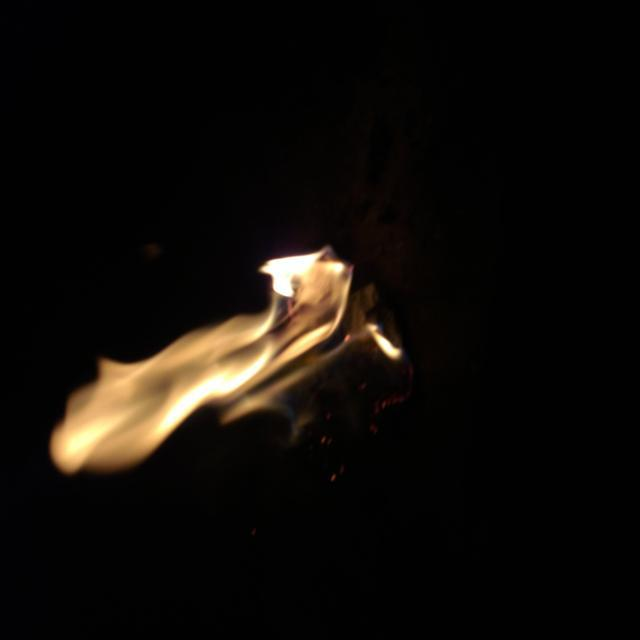Fire: (46, 242, 422, 480)
